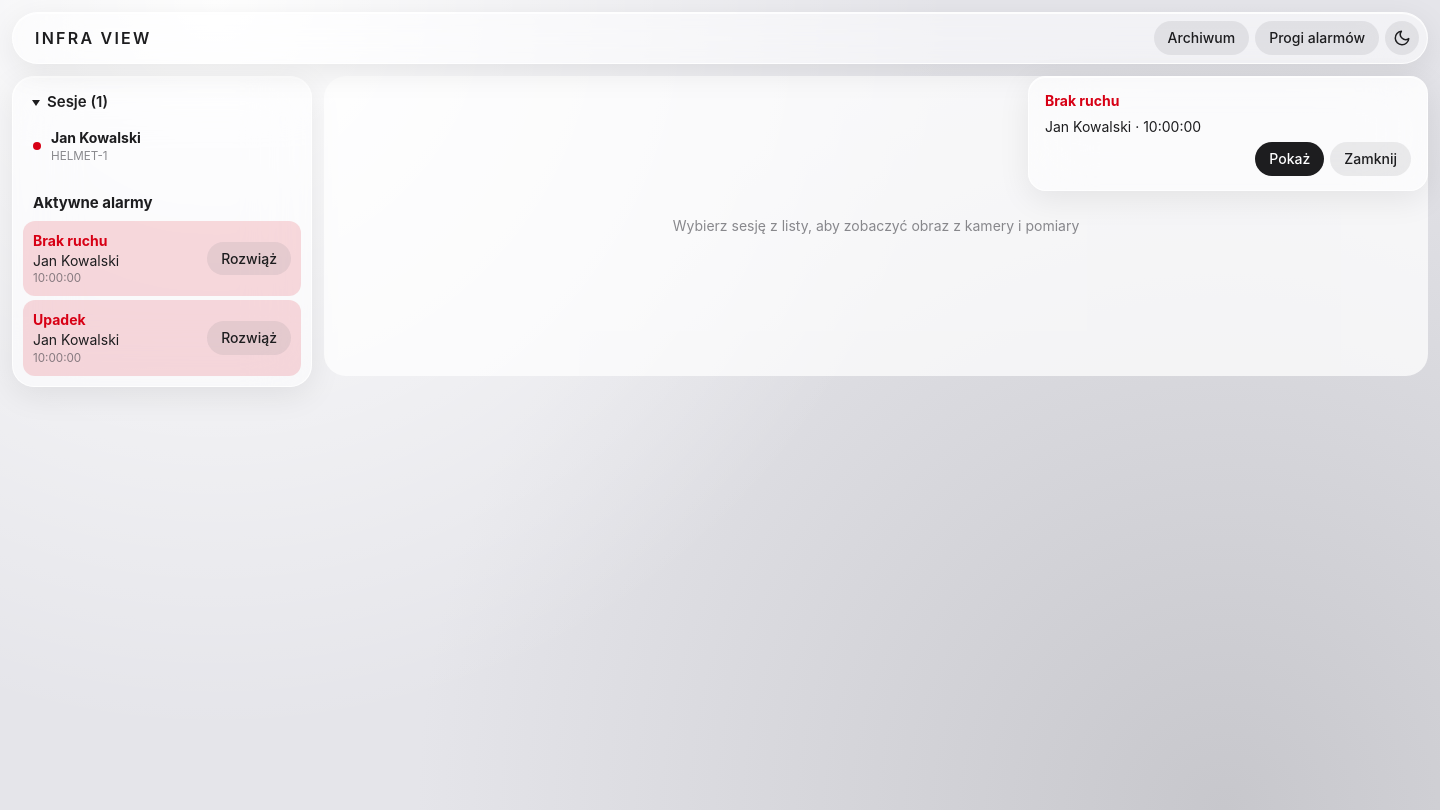
Test case: nowy alarm pojawia się jako popup, który otwiera sesję strażaka
The image size is (1440, 810).
Check: the text "Upadek" is shown, box [33, 311, 86, 328]
Click the button "Pokaż".
click(1290, 159)  # box [1255, 142, 1324, 176]
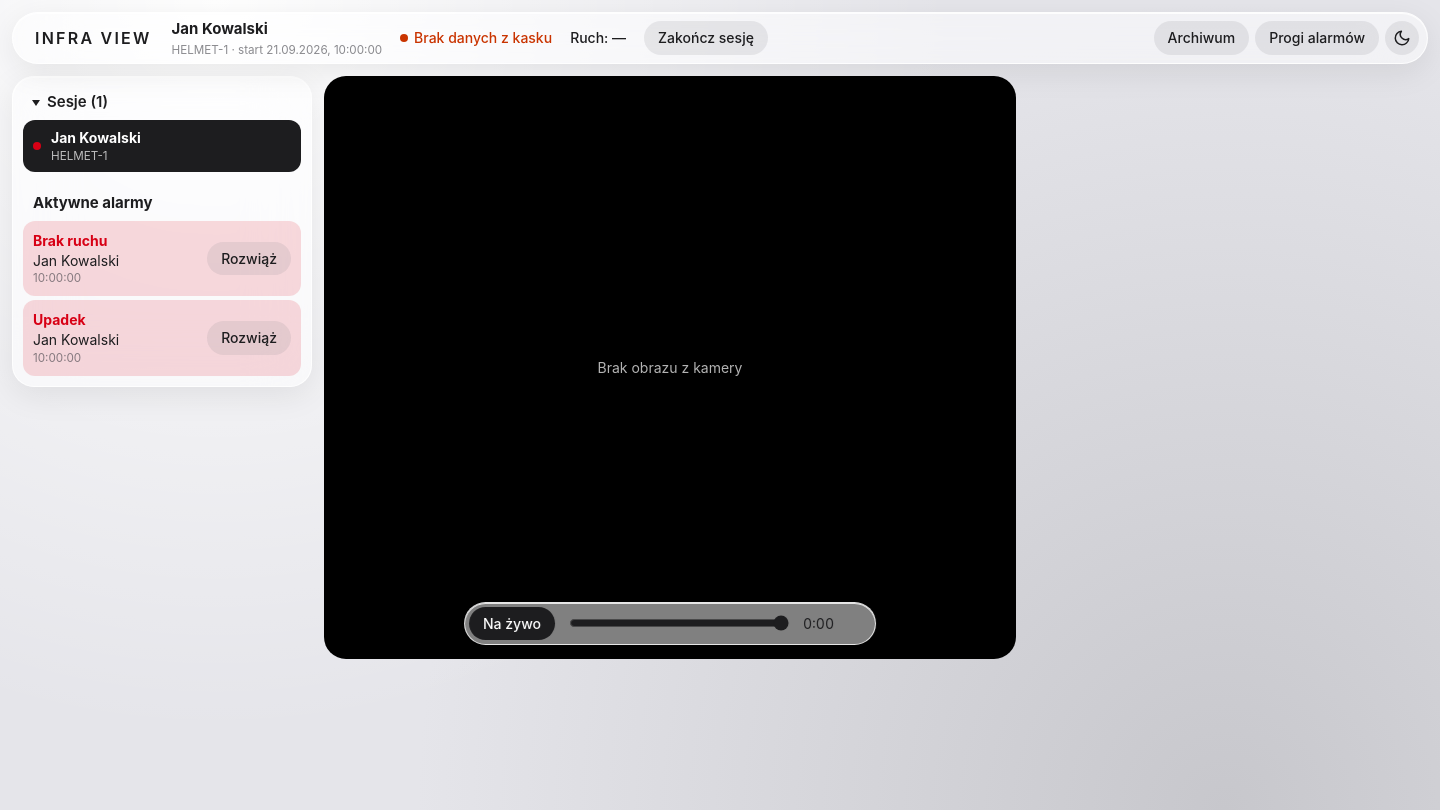
Check: the heading "Jan Kowalski" is shown, box [172, 19, 268, 38]
Check: the message "Brak ruchu Jan Kowalski · 10:00:00 Pokaż Zamknij" is gone
